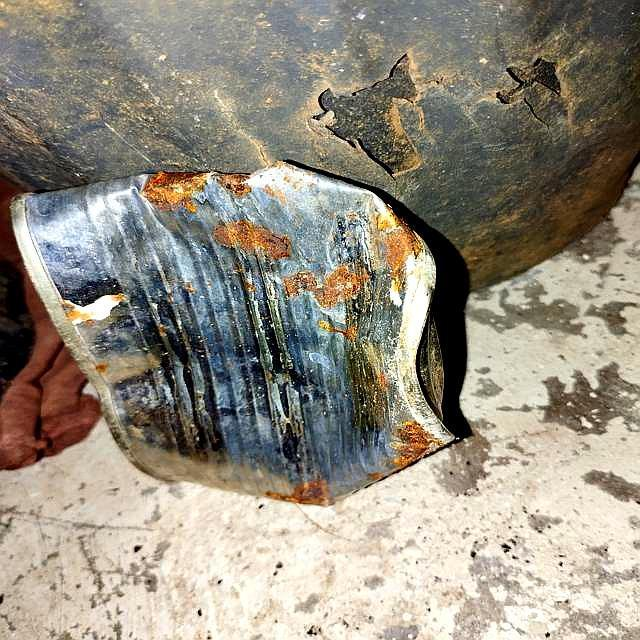Non-biodegradable: (9, 159, 465, 509)
